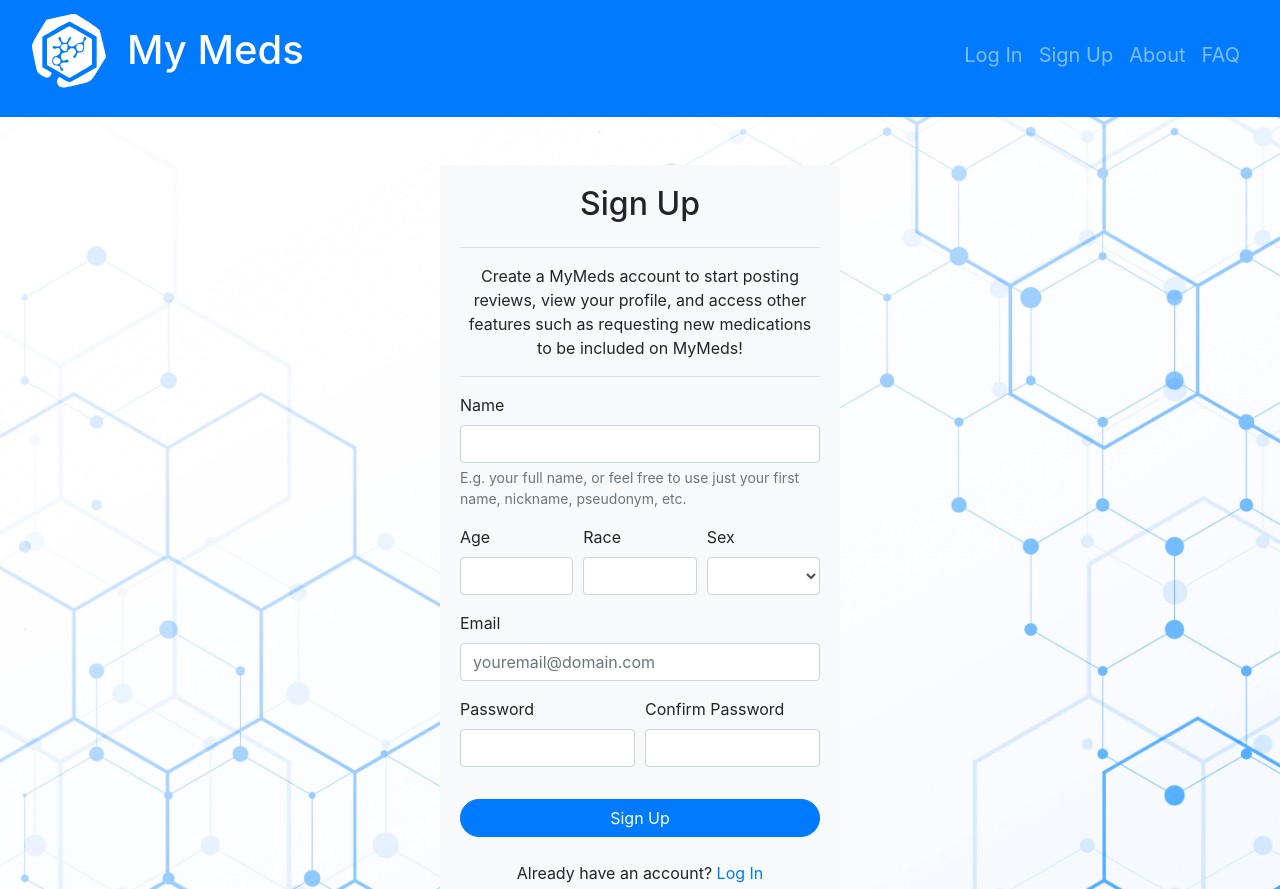
Feedback for invalid email without .com
Type "test@gmail" into the field with test id "email-input" at (640, 662), box [460,643,820,681]
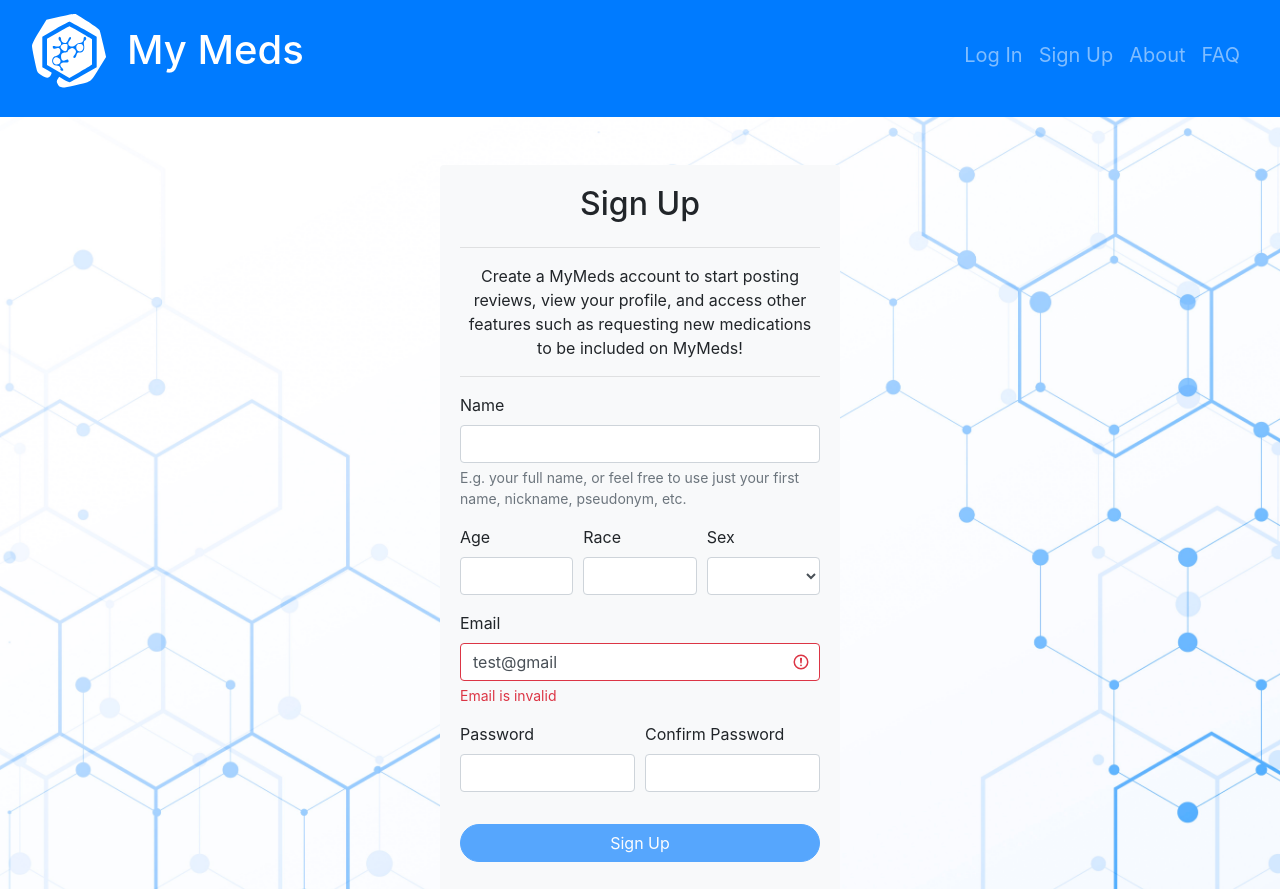
Check: the text "Email is invalid" is shown, box [460,687,556,704]
Check: the button with test id "button" is disabled, box [460,824,820,862]
